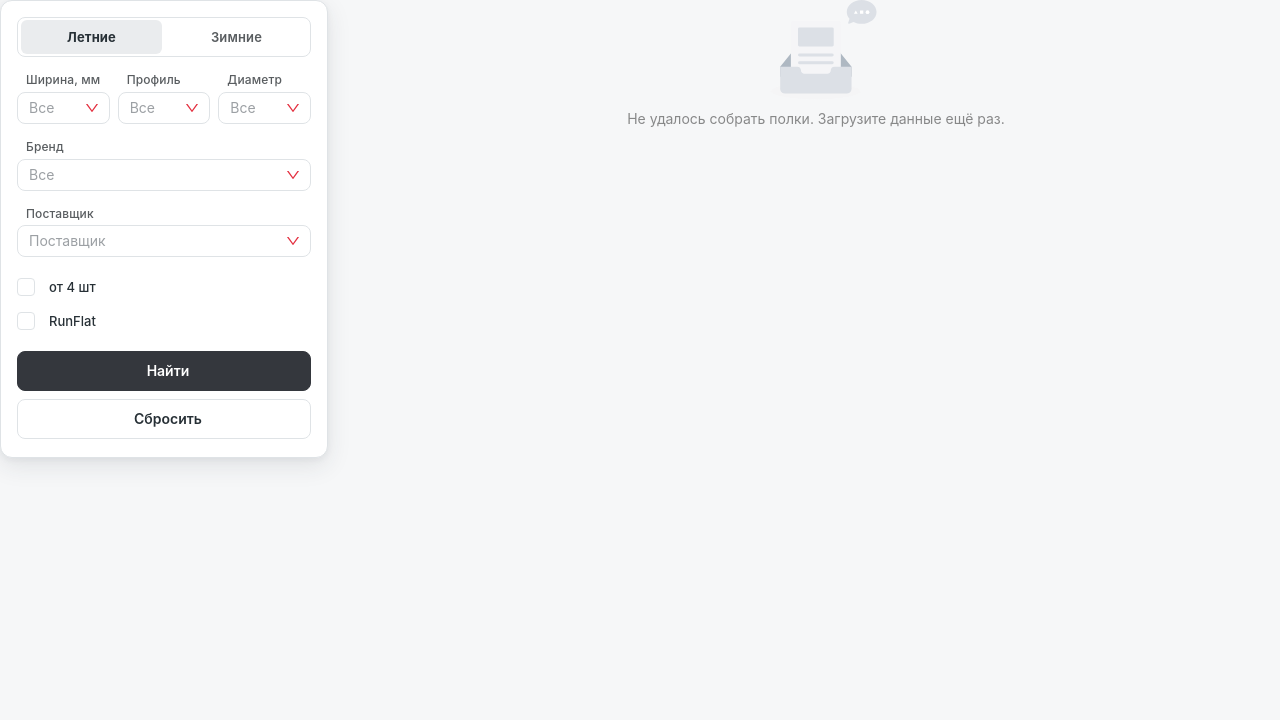
Test: TiresSearchParameters brand filter › sidebar: тап по бренду открывает sheet, без catalog-select dropdown
Press the mouse on the element showing "Все": point(164, 175) [17,159,311,191]
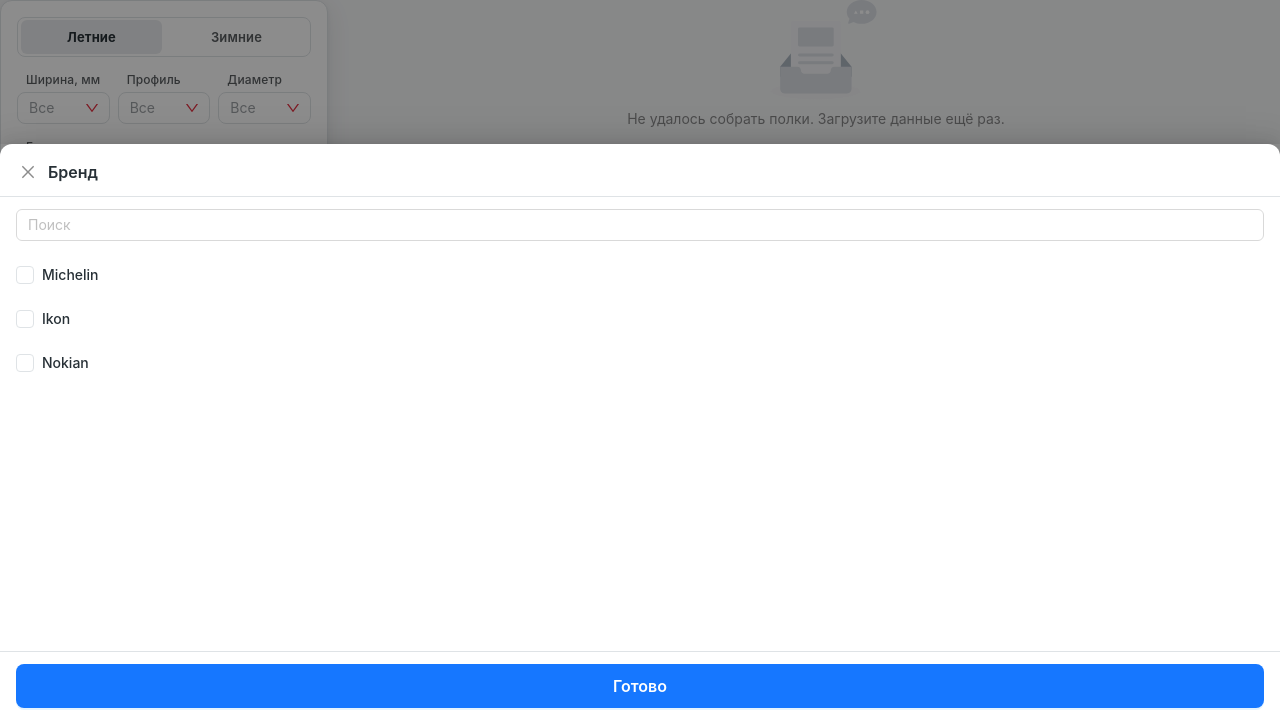
Expected: the button "Готово" is shown, [16,664,1264,708]
Expected: the checkbox labelled "Michelin" is shown, [16,266,98,284]
